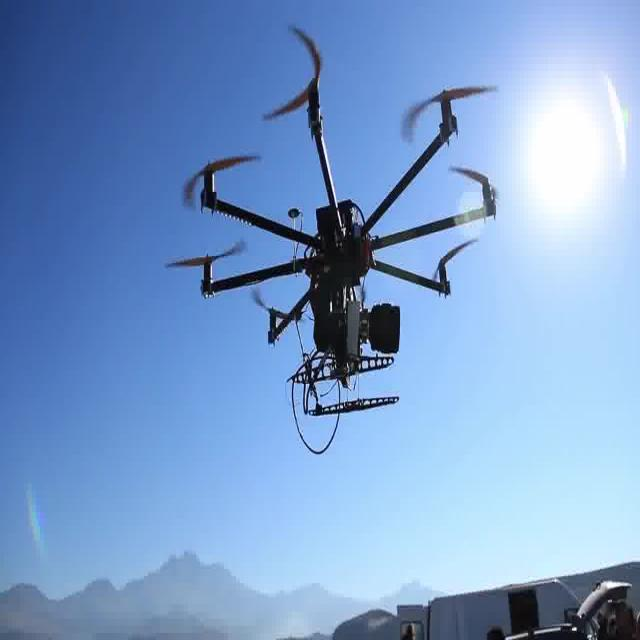drone: (145, 15, 508, 459)
